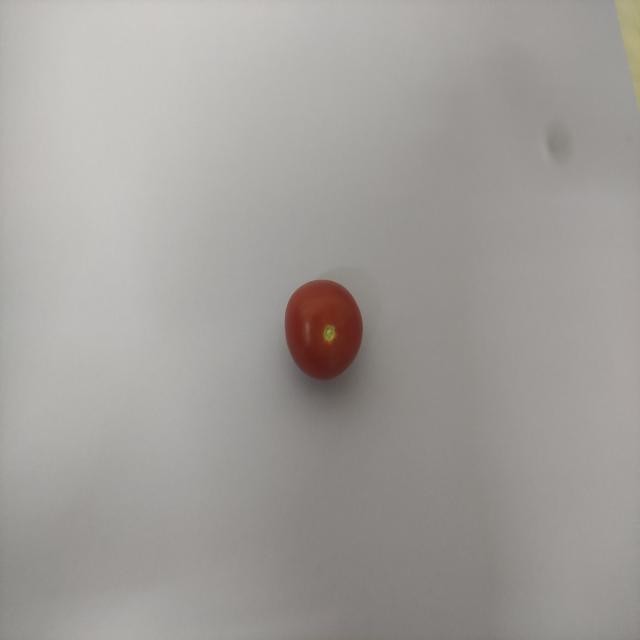kirmizi: (263, 247, 382, 402)
